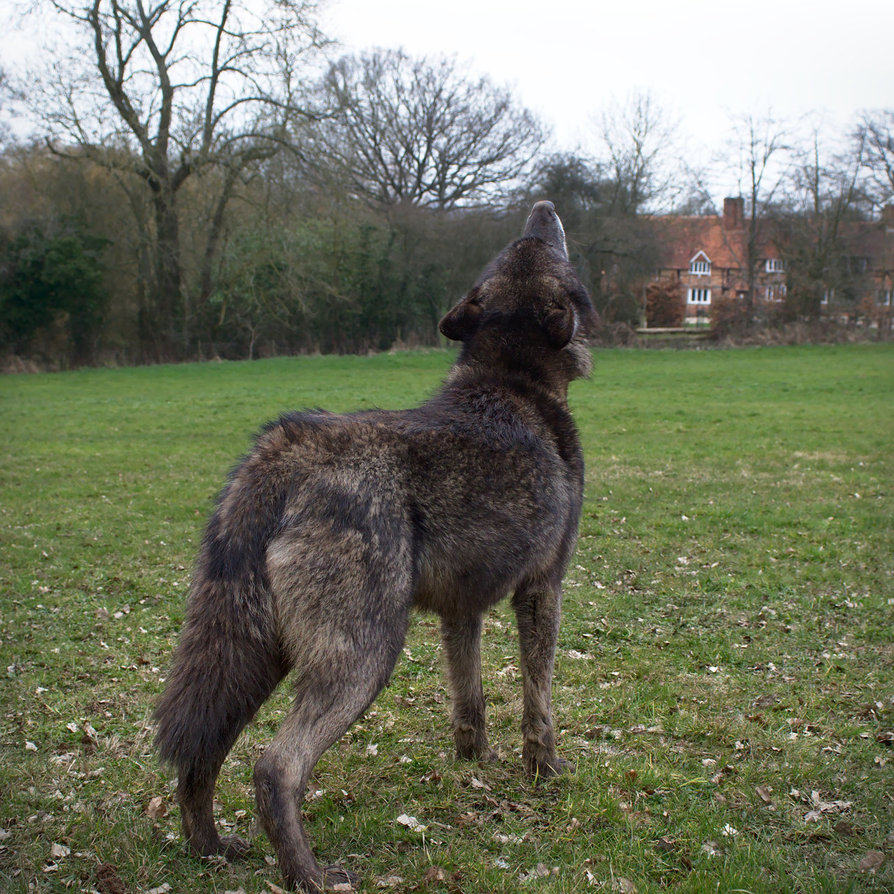wolf: (172, 194, 595, 883)
